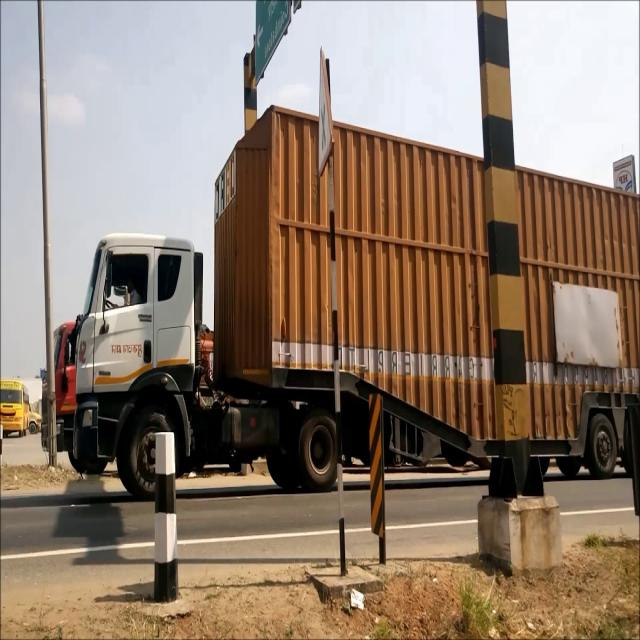truck: (72, 107, 640, 498)
